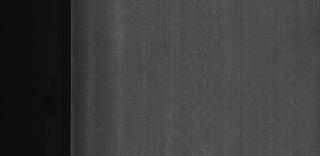silk spot: (170, 25, 220, 93)
